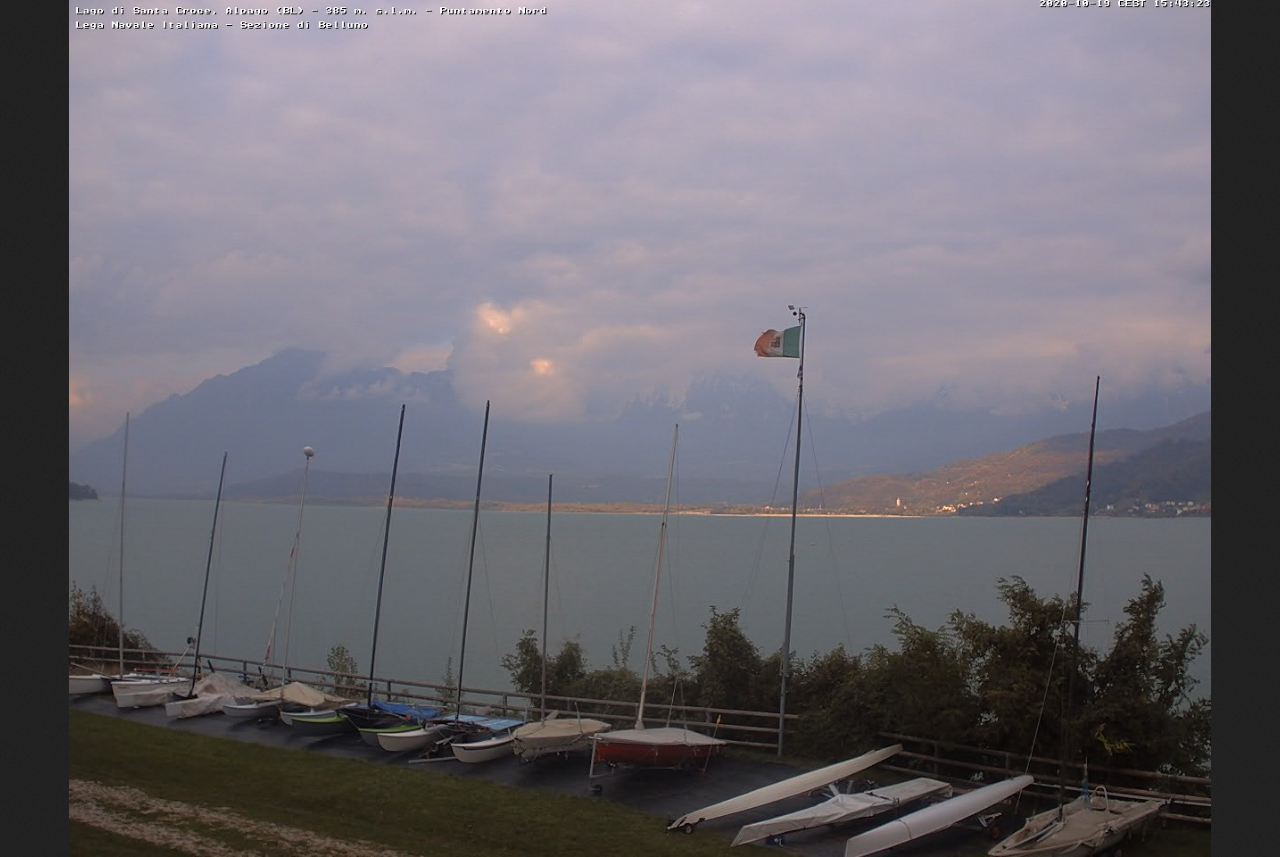yes: (755, 326, 803, 360)
